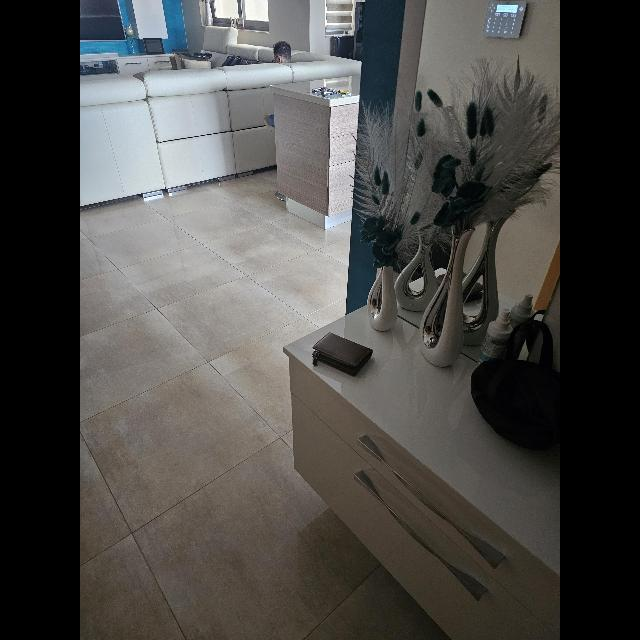Wallet: (310, 332, 372, 376)
